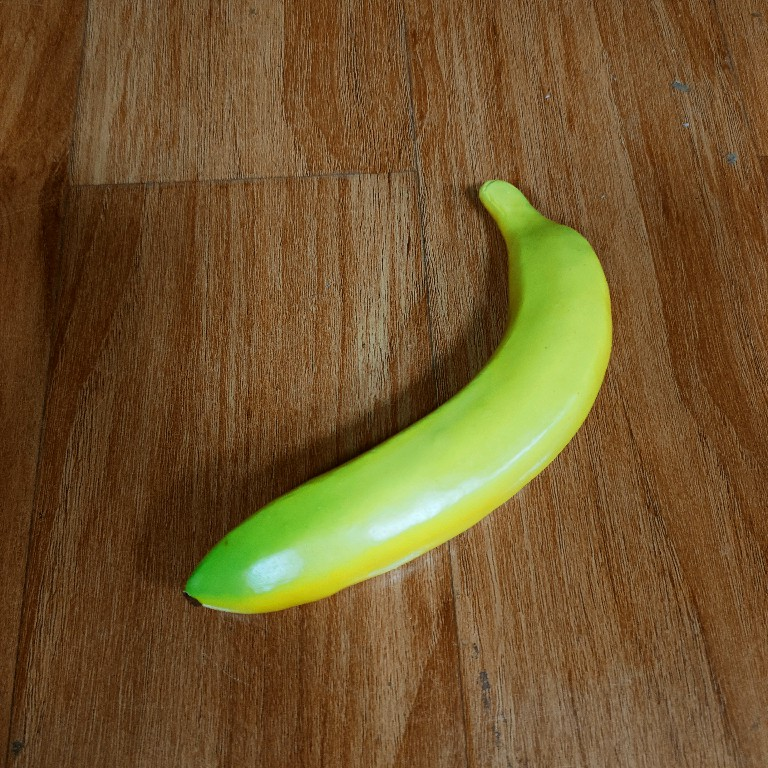fruit_banana: (180, 174, 620, 618)
